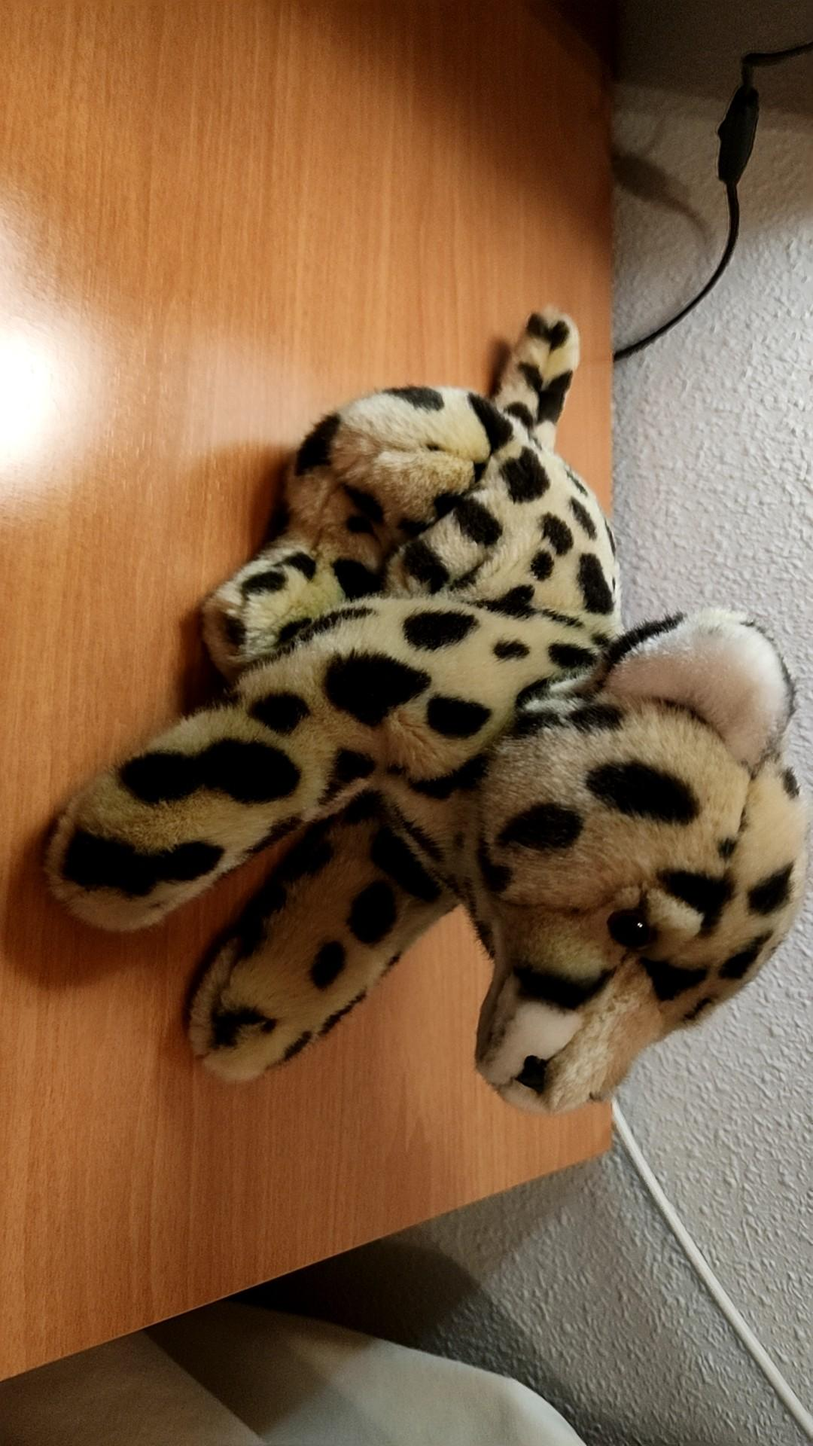toy: (47, 317, 803, 1109)
